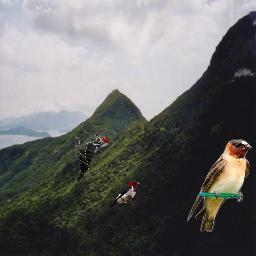Swallow: (187, 139, 252, 232)
Woodpecker: (75, 134, 110, 184), (107, 180, 142, 207)
